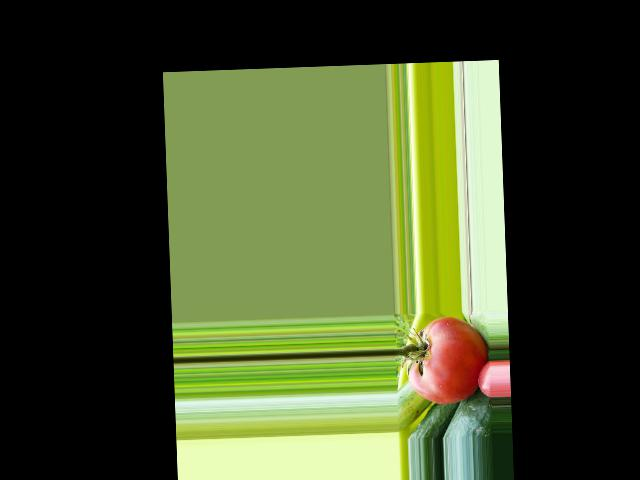tomato: (406, 315, 490, 405)
